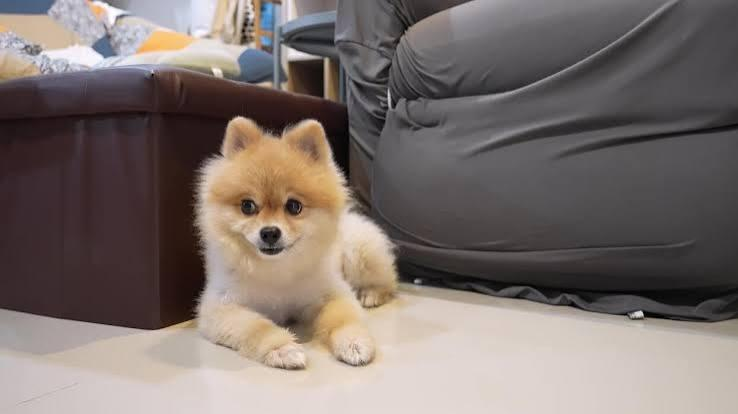adult_dog: (192, 115, 399, 370)
